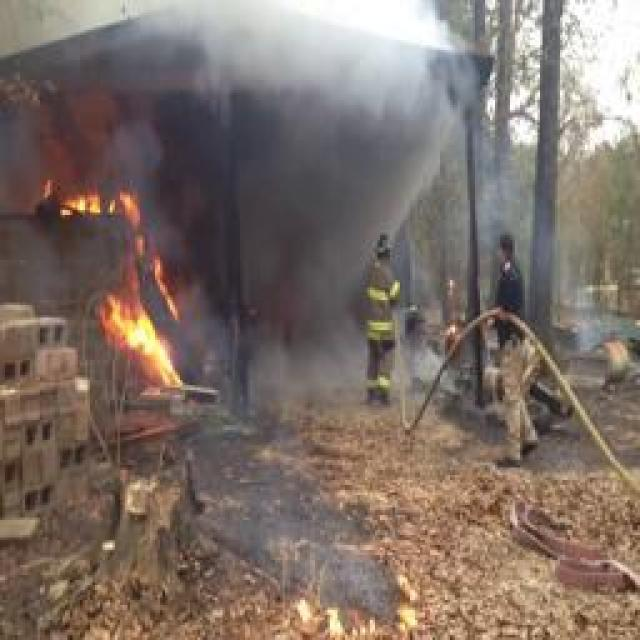Fire: (296, 594, 374, 640), (110, 292, 164, 356)
Smoke: (162, 15, 508, 227)
